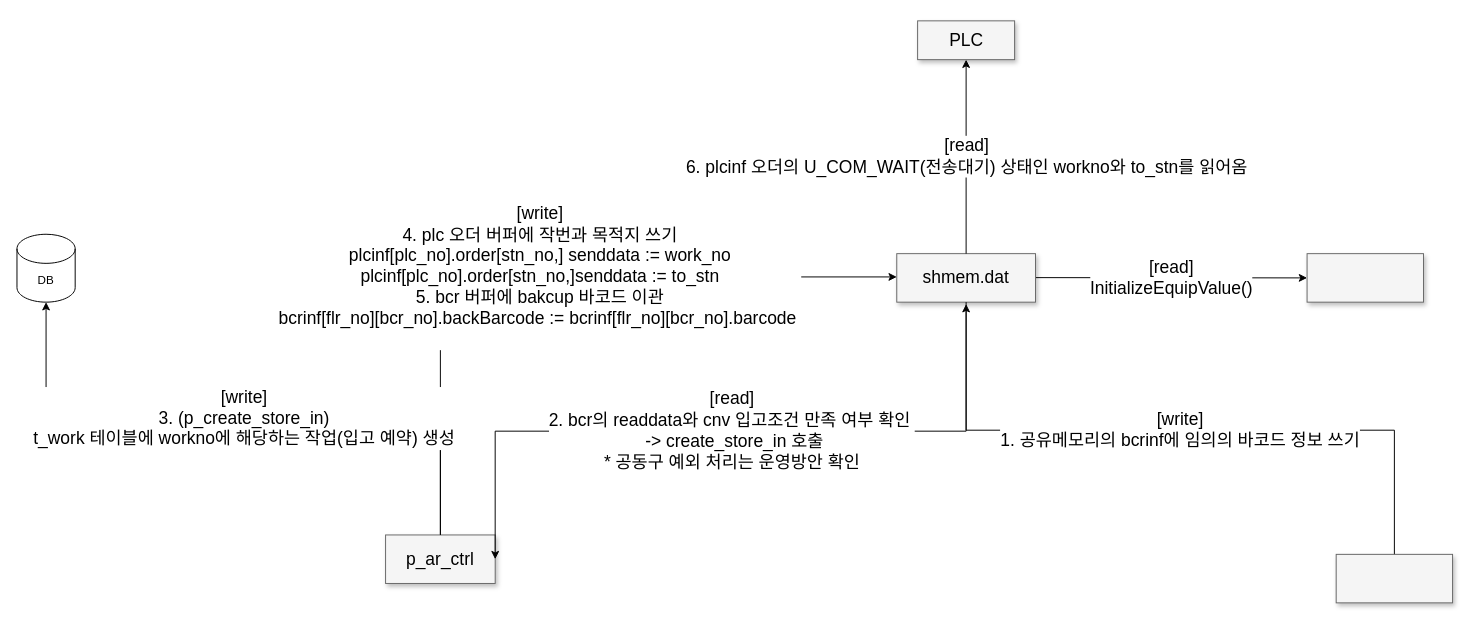
The diagram is 1475 pixels wide and 627 high, and some of its shapes have lost their labels. Each missing label, with the centre of its shape:
"p_sy_shmop" goes at pixel 1394 580.
"wcs (c#)" goes at pixel 1365 279.
